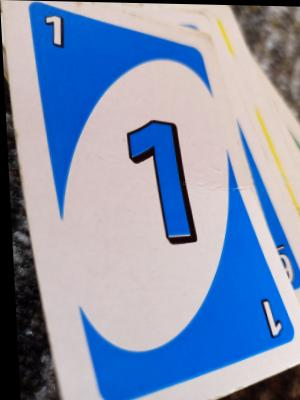blue: (31, 28, 251, 373)
num_1: (35, 7, 77, 56), (256, 288, 280, 347)
